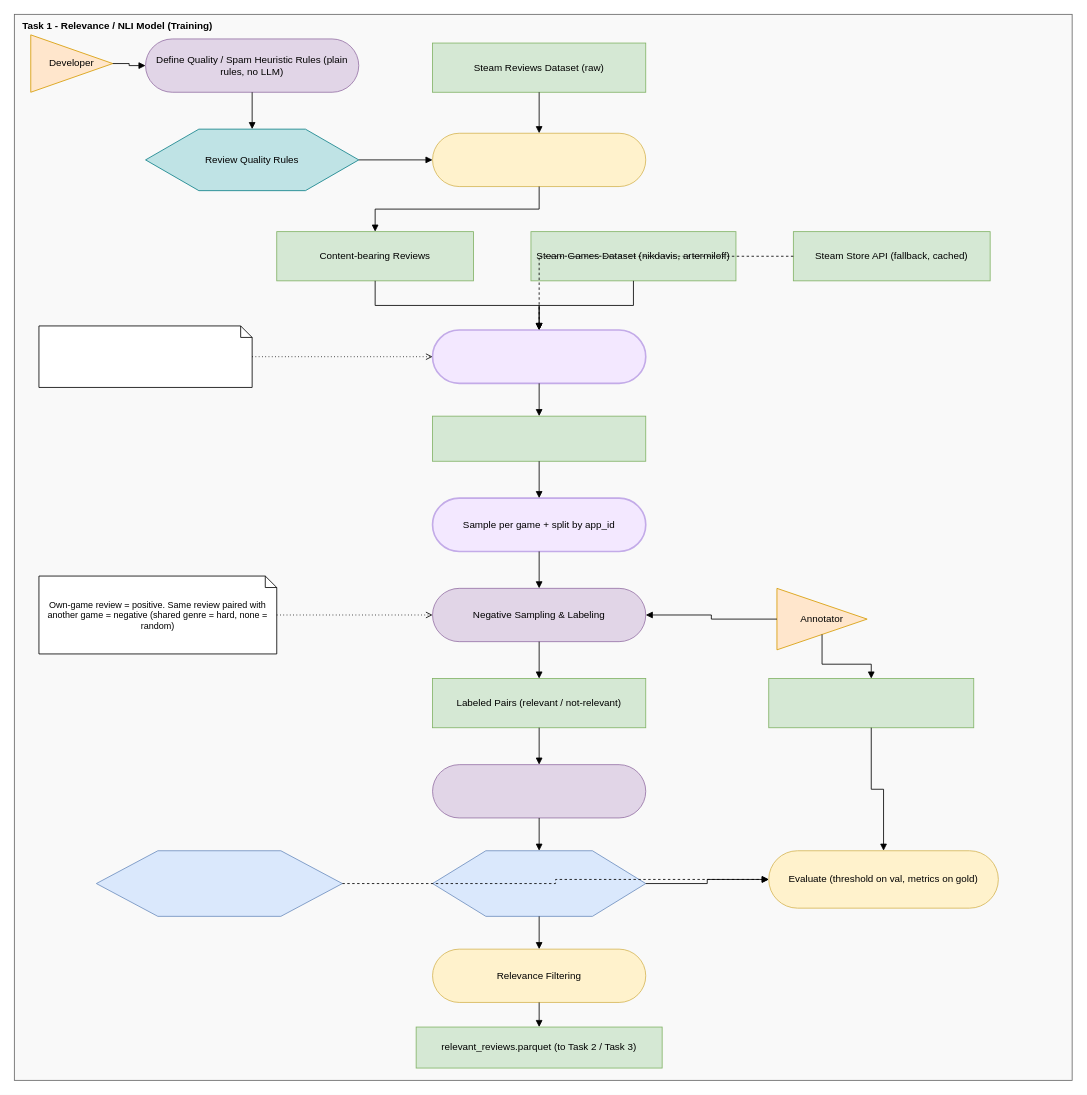
Some shapes in this 1087 by 1095 pixel diagram are drawn without their labels. The centre of each missing label's shape, as x and y in pixels:
"Baselines: TF-IDF cosine, zero-shot BART-MNLI" goes at pixel 219 883.
"Genre & description are NOT in the reviews dataset: join manually by app_id" goes at pixel 145 356.
"Gold Test Set (human labels)" goes at pixel 871 703.
"Join by app_id (build game context)" goes at pixel 538 356.
"NLI / Relevance Model" goes at pixel 539 883.
"Quality Filtering" goes at pixel 539 159.
"Review-Game Pairs" goes at pixel 539 438.
"Train Relevance Classifier" goes at pixel 539 791.
